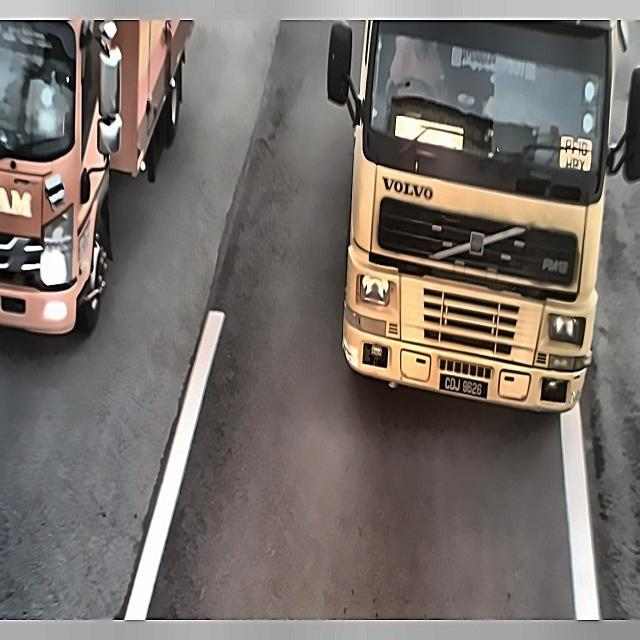car: (436, 354, 492, 401)
